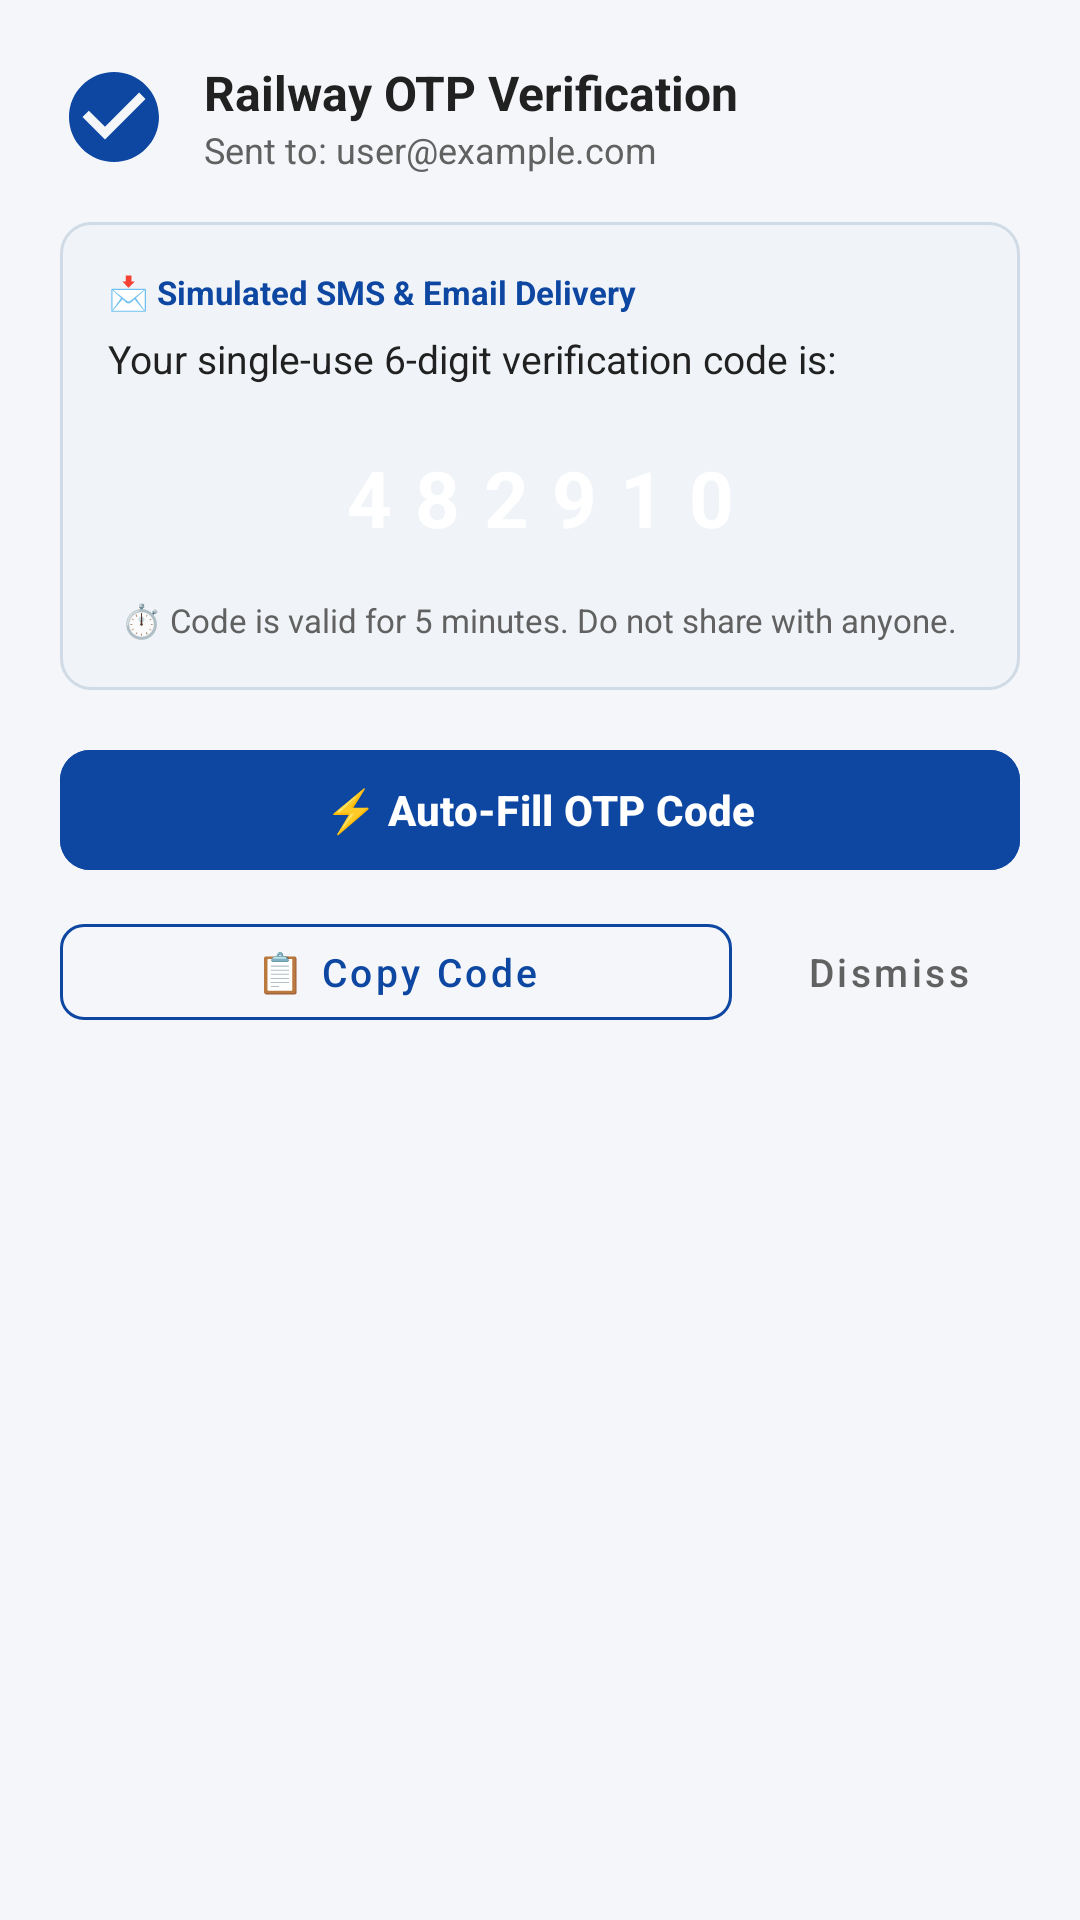

Screen size 1080px x 1920px. Icon name, then its box in pixels as (x1, y1, x2, y2):
check circle: (69, 72, 159, 162)
